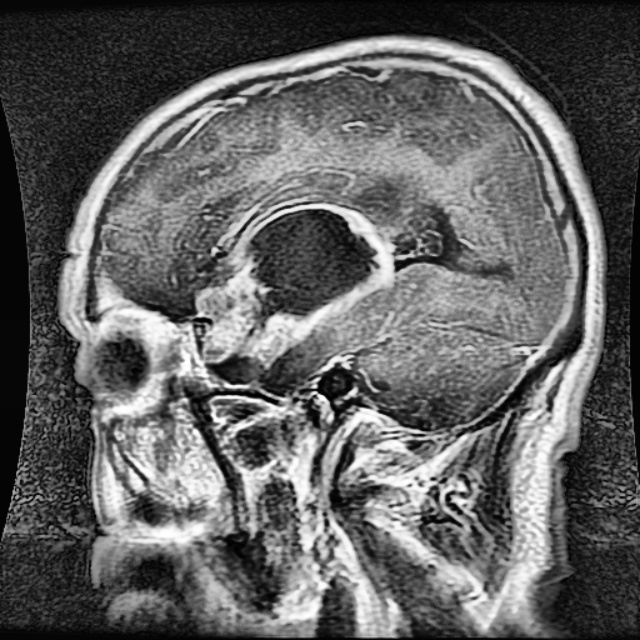Meningioma: (190, 204, 394, 368)
